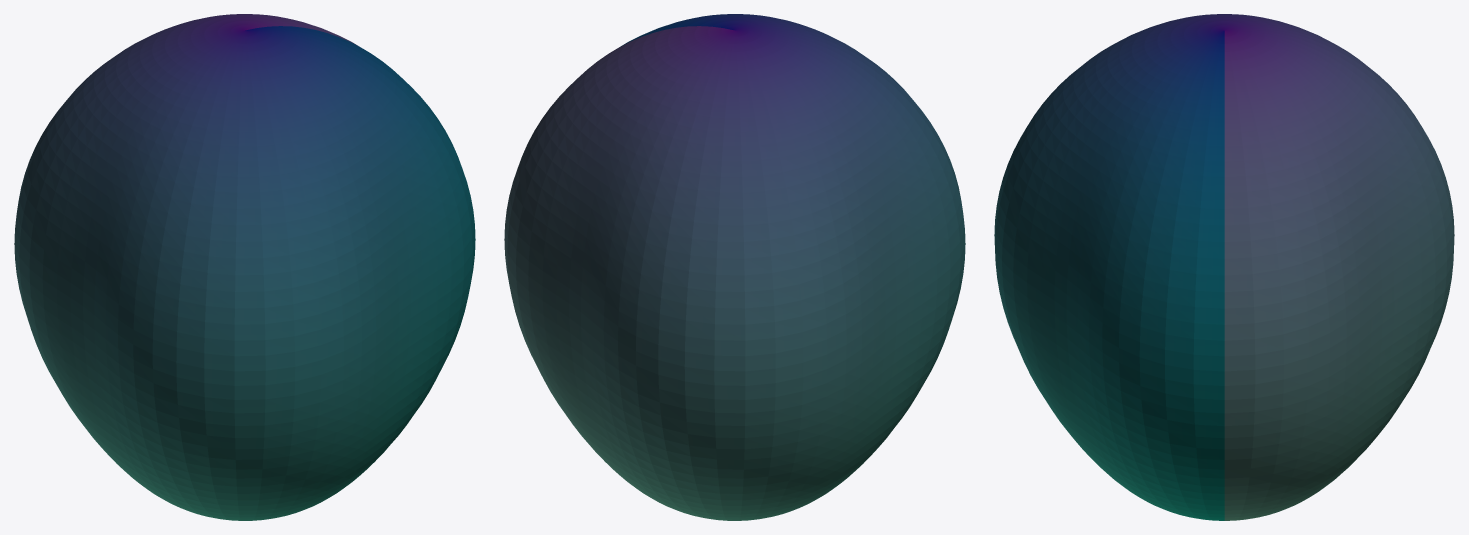
File: blob5k-colors.glb
The picture shows the model from 3 angles, left to right: view 1: azimuth 30°, elevation 25°; view 2: azimuth 150°, elevation 25°; view 3: azimuth 270°, elevation 25°; orthographic projection.
Parts seen in each view (by area): view 1: blob.mesh; view 2: blob.mesh; view 3: blob.mesh.
Part boxes in pixels (x1,y1,x2,y2): blob.mesh: (14,14,475,520); blob.mesh: (504,14,965,520); blob.mesh: (994,14,1454,520).
Bounding box in the file's own units: 2.01 × 2.4 × 2.12.
